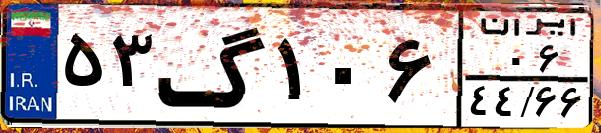0: (330, 28, 385, 110), (508, 27, 537, 80)
1: (270, 28, 330, 110)
3: (110, 28, 156, 98)
4: (470, 70, 495, 125), (495, 70, 520, 125)
5: (57, 26, 110, 100)
6: (385, 28, 445, 110), (560, 70, 590, 125), (537, 27, 568, 80), (535, 70, 560, 125)
گ: (156, 12, 270, 120)
